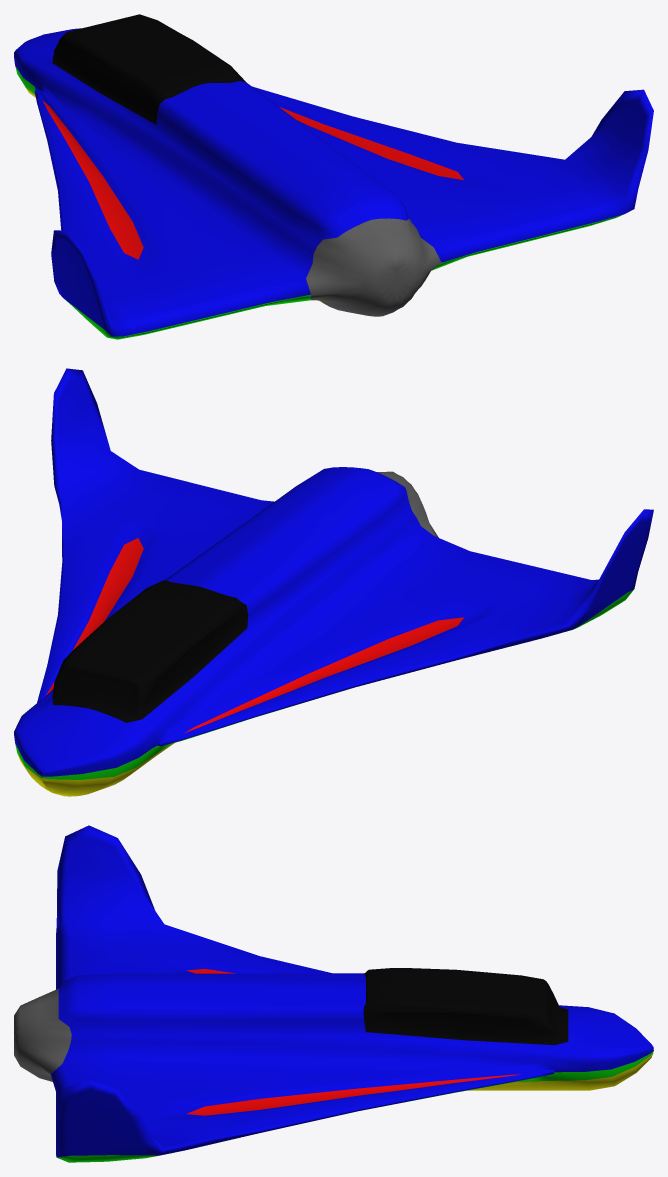
Rendered from Nave_Inimigo.fbx.
The picture shows the model from 3 angles, top to bottom: view 1: azimuth 30°, elevation 25°; view 2: azimuth 150°, elevation 25°; view 3: azimuth 270°, elevation 25°; orthographic projection. The views are drawn at different scales.
Parts seen in each view (by area): view 1: pCylinder2; view 2: pCylinder2; view 3: pCylinder2.
Part boxes in pixels (left/top/right/bottom): pCylinder2: left=14, top=14, right=653, bottom=339; pCylinder2: left=14, top=368, right=653, bottom=796; pCylinder2: left=14, top=825, right=653, bottom=1162.
Bounding box in the file's own units: 7.69 × 1.88 × 8.17.
